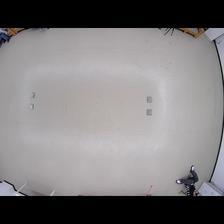fall: (175, 165, 201, 195)
